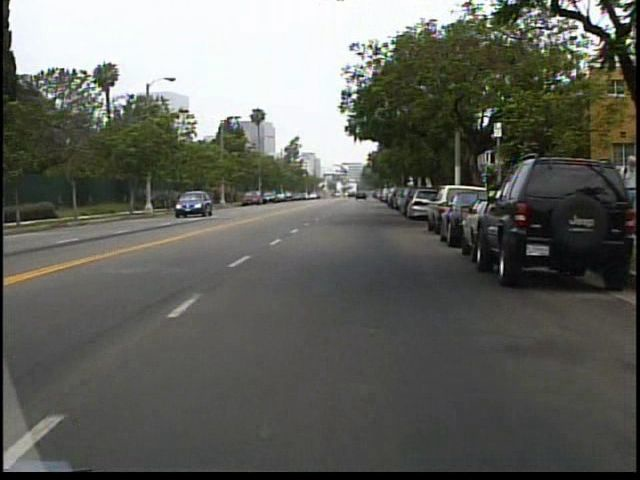person: (612, 154, 638, 243)
